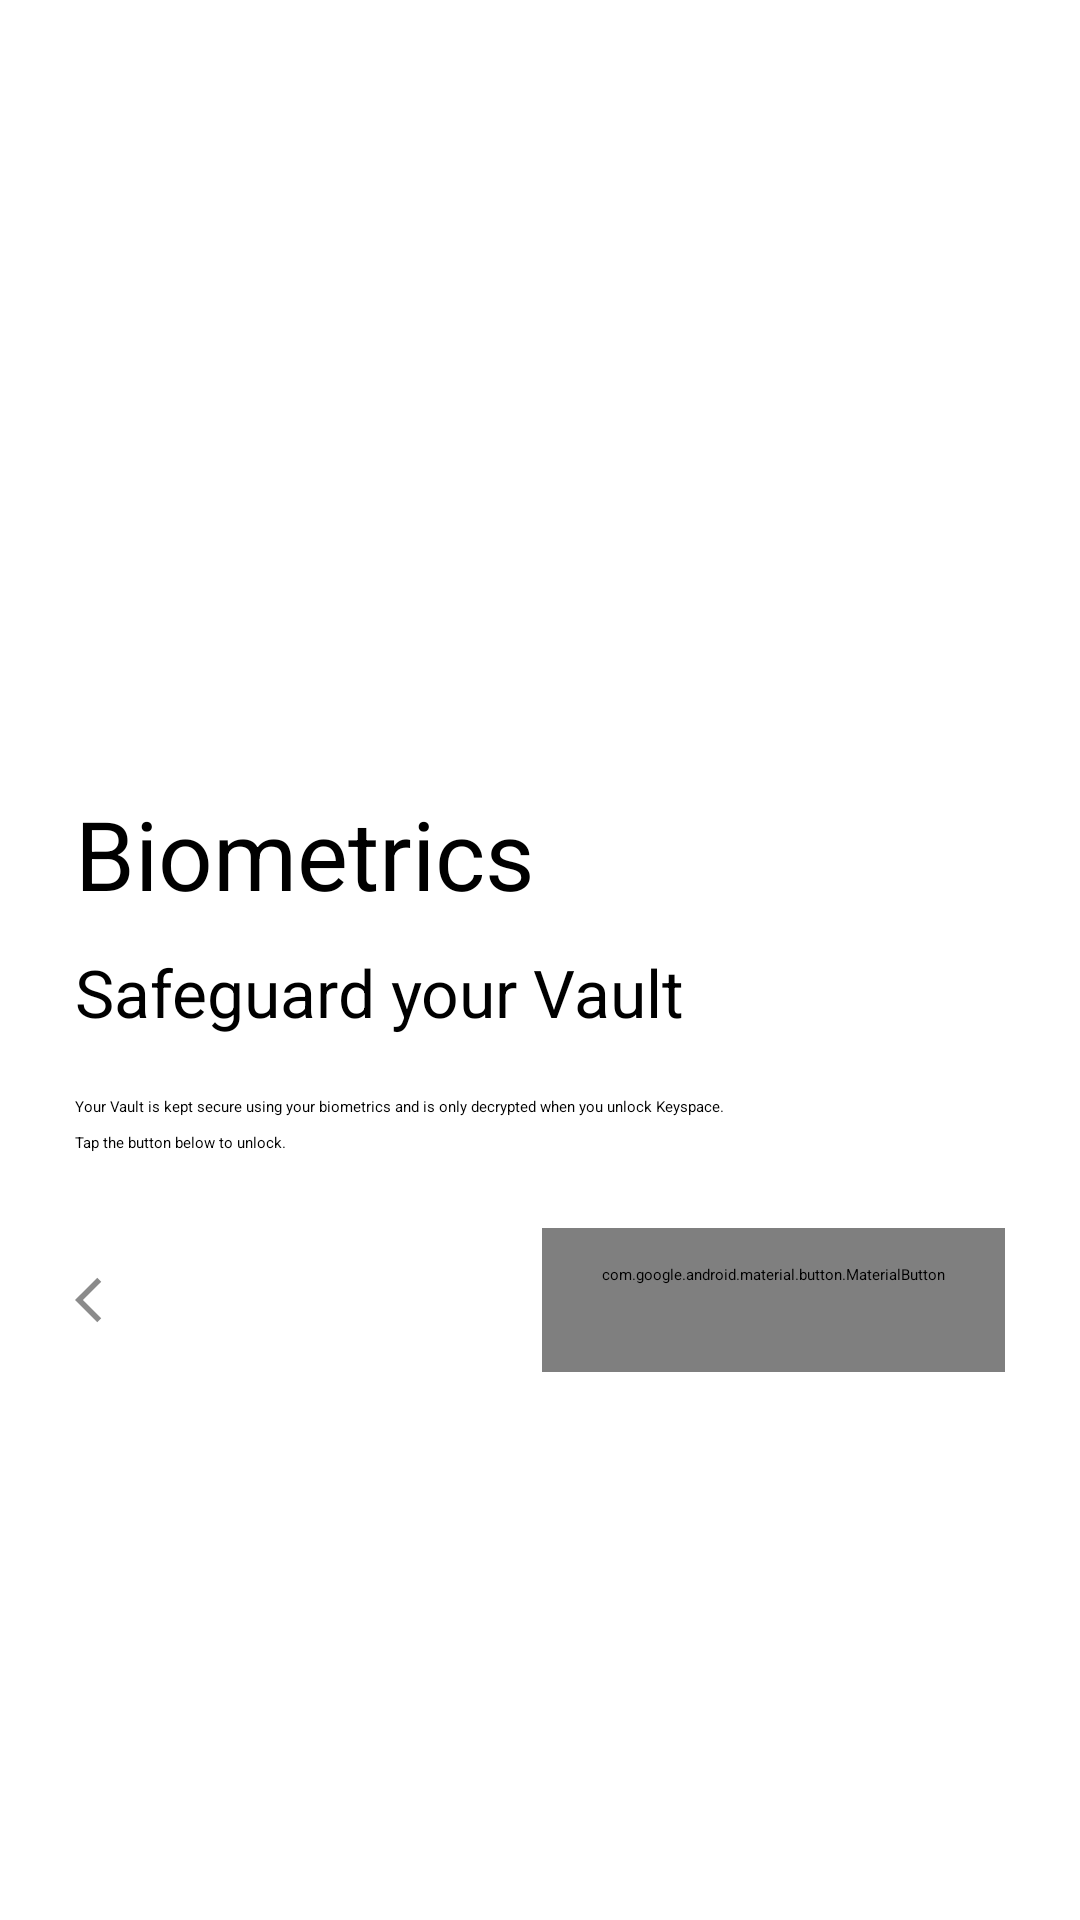

Named icons in this screenshot (1080w x 1920h) and their bounding boxes, (x1, y1, x2, y2):
arrow back: (75, 1278, 101, 1322)
